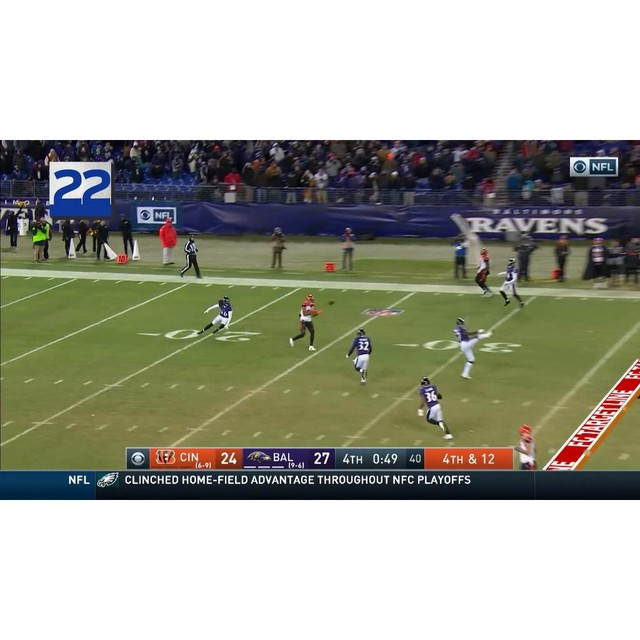american-football-player: (450, 318, 490, 379), (417, 377, 453, 440), (289, 294, 321, 349), (345, 328, 373, 385), (197, 296, 233, 334), (498, 258, 524, 308), (514, 423, 538, 470), (474, 247, 492, 297)
referee: (179, 233, 203, 280)
